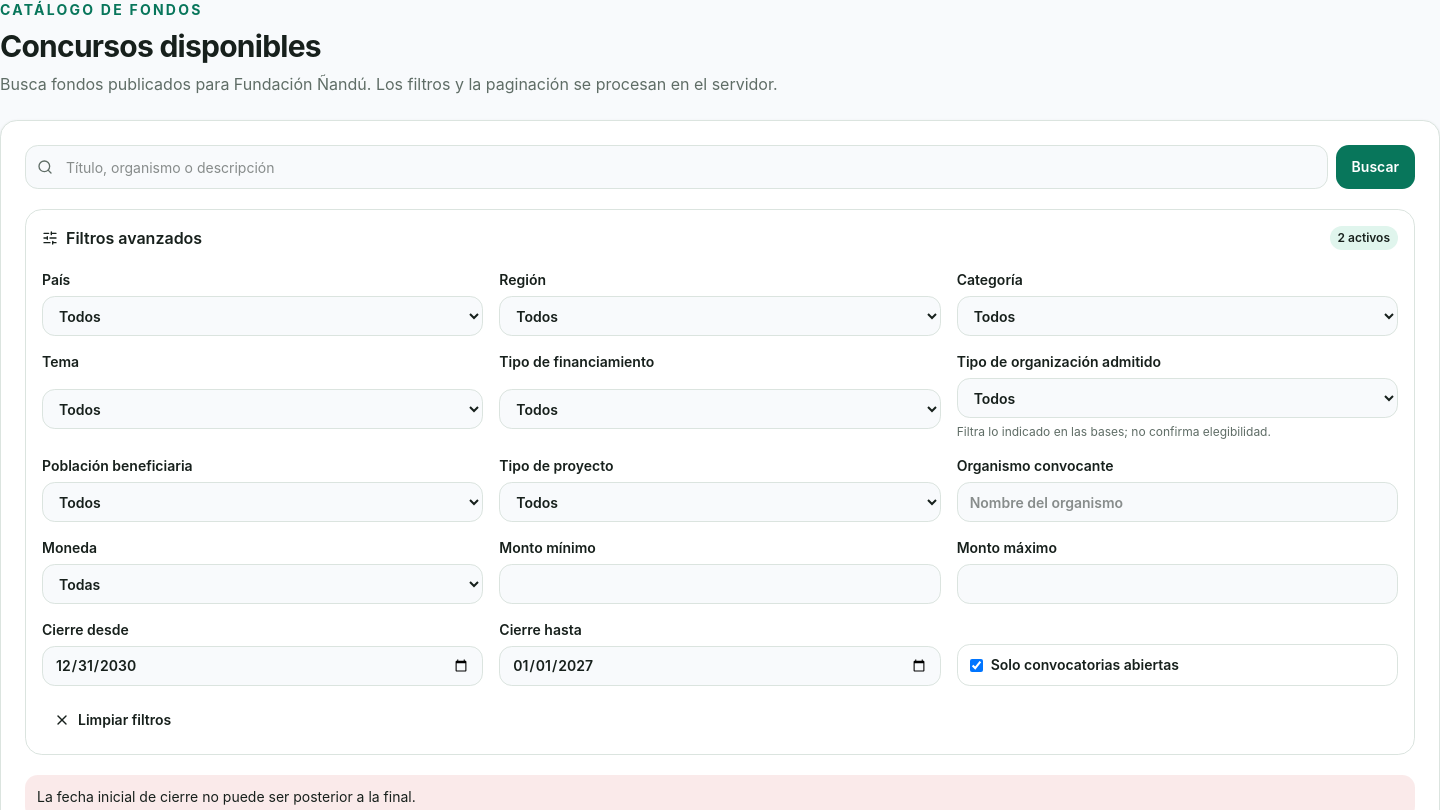
organization funding ES/EN › keeps invalid criteria blocked in both languages (closingFrom=2030-12-31&closingTo=2027-01-01)
The width and height of the screenshot is (1440, 810).
Expected: the message reads "La fecha inicial de cierre no puede ser posterior a la final.", top-left (37, 788), bottom-right (416, 805)
Click the heading "Filtros avanzados 2 activos" at [134, 238], box top-left (42, 226), bottom-right (1398, 250)
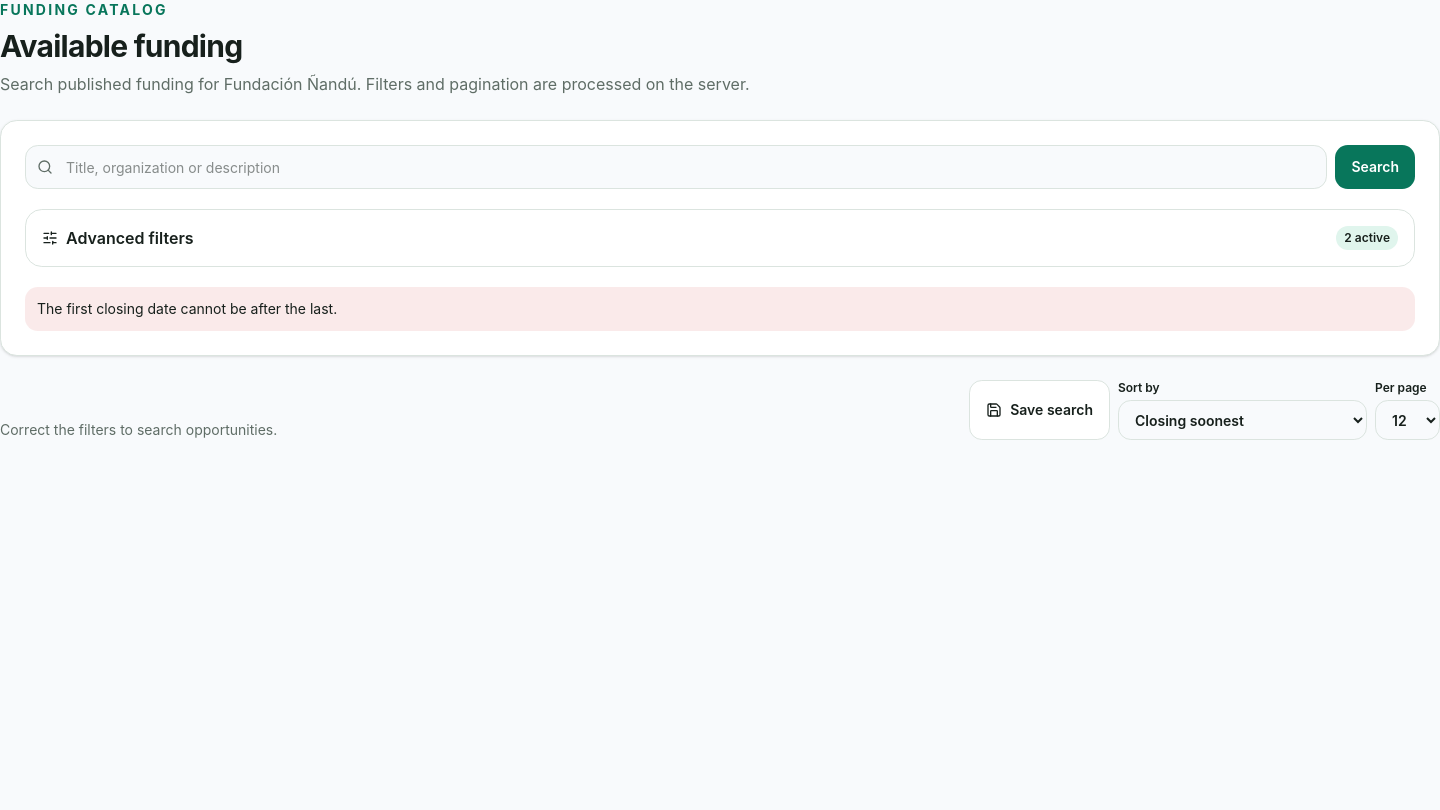
Expected: the message "The first closing date cannot be after the last." is shown, top-left (25, 287), bottom-right (1415, 331)
Expected: the message reads "The first closing date cannot be after the last.", top-left (37, 300), bottom-right (337, 317)
